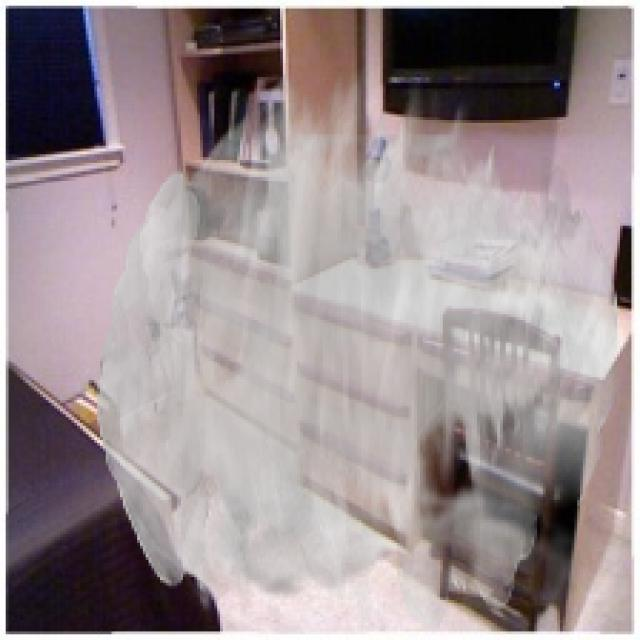smoke: (97, 69, 620, 632)
